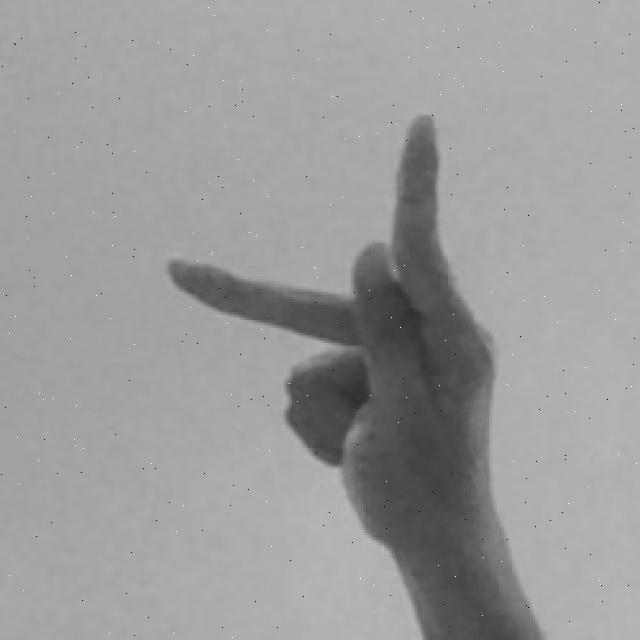K: (161, 107, 547, 640)
